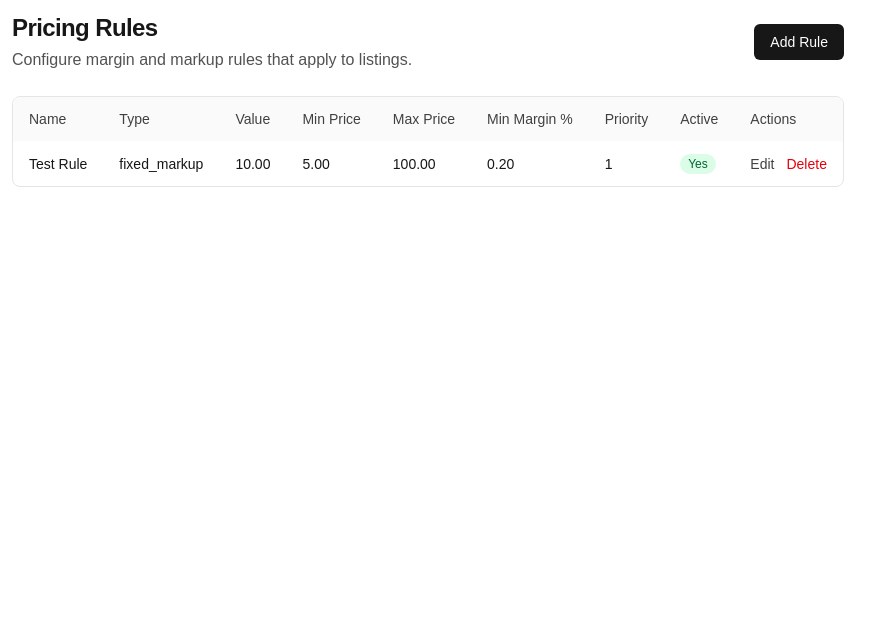
Test: PricingPage › edits an existing rule via the form
Expected: the text "Test Rule" is shown, [13,141,103,186]
Click the button "Edit" at point(762, 164), box [750,154,774,174]
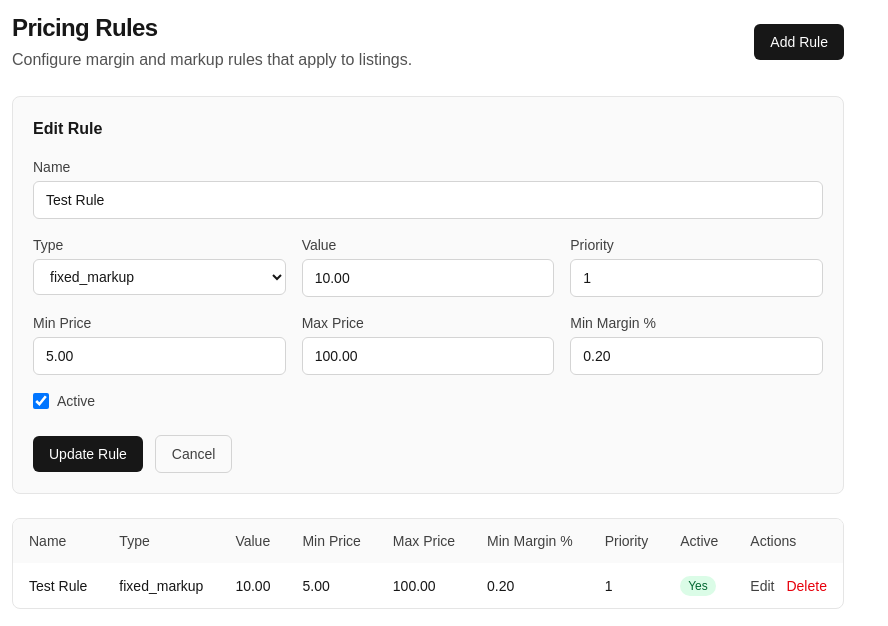
Expected: the heading "Edit Rule" is shown, [33,120,102,137]
Replace the text in the field labelled "Name" with "Updated Rule" at point(428, 200), box [33,181,823,219]
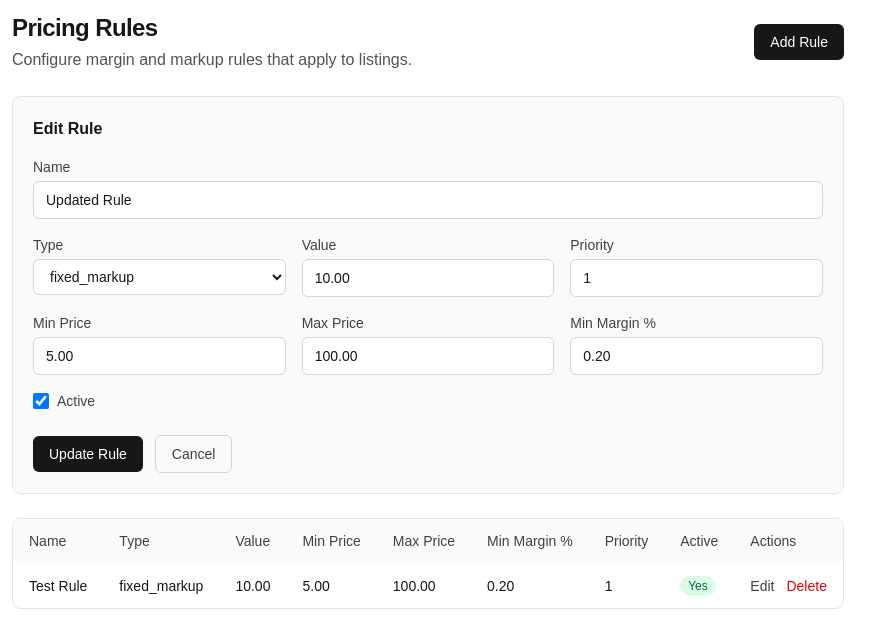
Replace the text in the number field labelled "Value" with "20.00" at point(428, 278), box [302,259,554,297]
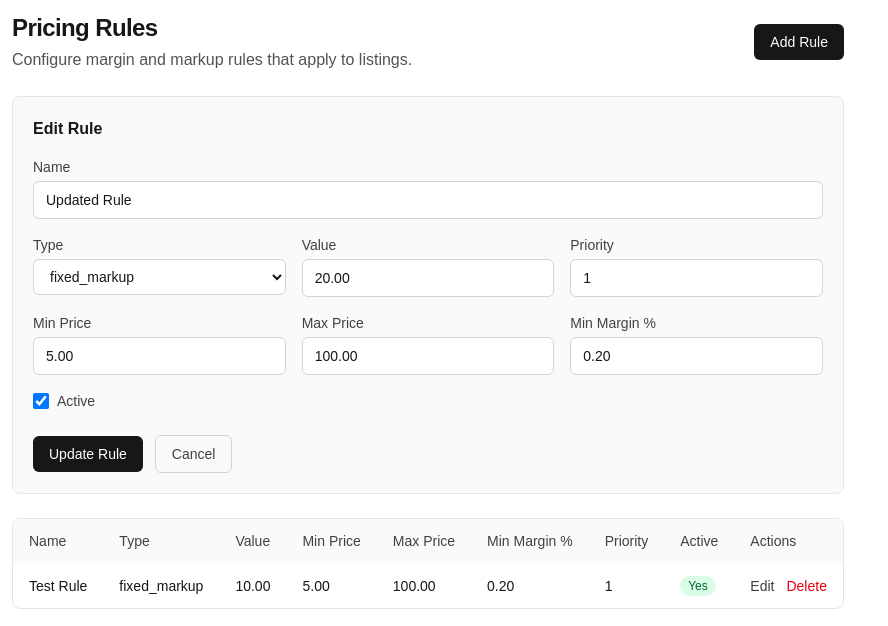
Click the button "Update Rule" at point(88, 454), box [33,436,143,472]
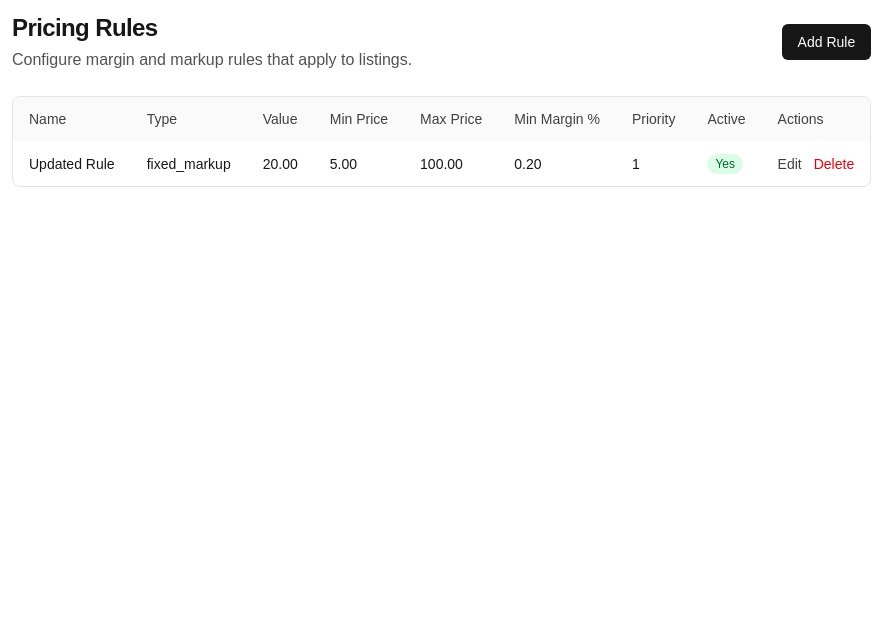
Expected: the text "Updated Rule" is shown, [13,141,131,186]
